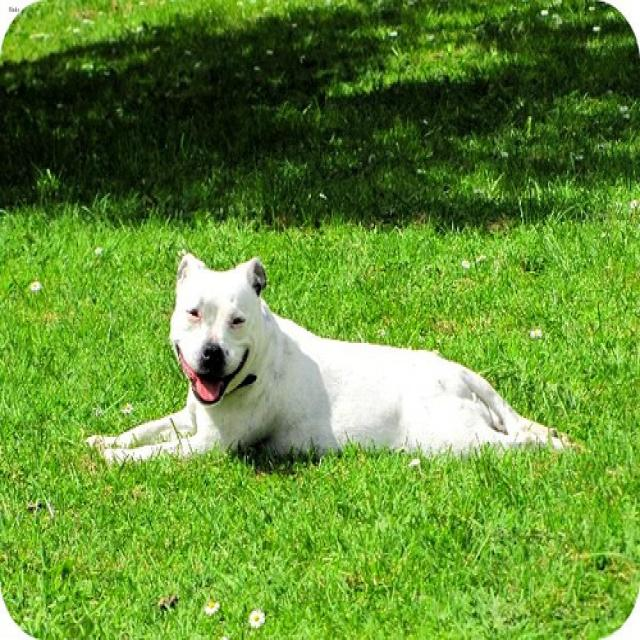dog-staffordshire_bull_terrier: (69, 244, 582, 468)
